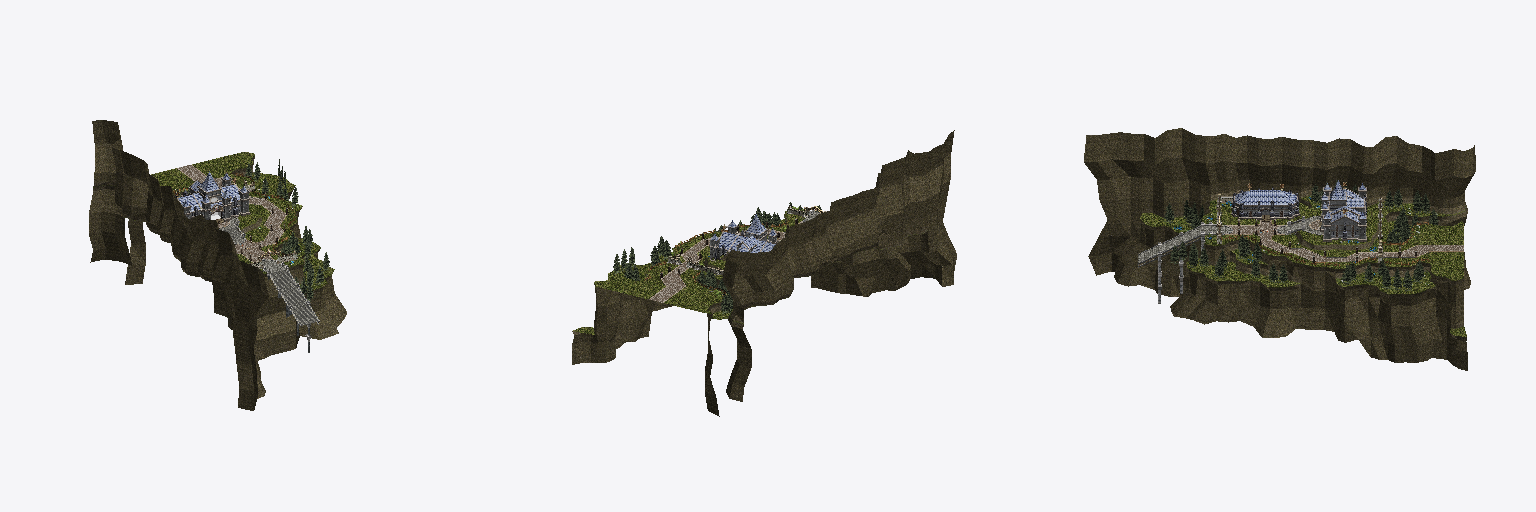
3 renders of one model, left to right at view 1: azimuth 30°, elevation 25°; view 2: azimuth 150°, elevation 25°; view 3: azimuth 270°, elevation 25°, orthographic.
Parts seen in each view (by area): view 1: Object.67, Object.85, Object.53, Object.108, Object.76, Object.117, Object.63, Object.119, Object.84, Object.86, Object.92, Object.121 (+6 smaller); view 2: Object.82, Object.69, Object.47, Object.77, Object.109, Object.53, Object.86, Object.91, Object.54, Object.87, Object.95, Object.100 (+4 smaller); view 3: Object.105, Object.95, Object.76, Object.87, Object.86, Object.85, Object.82, Object.47, Object.77, Object.91, Object.53, Object.106 (+27 smaller).
Part boxes in pixels (bbox=[...]): Object.67: bbox=[258, 311, 299, 357]; Object.85: bbox=[183, 213, 218, 267]; Object.53: bbox=[236, 360, 265, 410]; Object.108: bbox=[92, 120, 122, 170]; Object.76: bbox=[234, 261, 268, 311]; Object.117: bbox=[90, 231, 131, 265]; Object.63: bbox=[299, 300, 338, 339]; Object.119: bbox=[93, 147, 115, 210]; Object.84: bbox=[181, 237, 219, 277]; Object.86: bbox=[212, 254, 232, 312]; Object.92: bbox=[116, 175, 146, 216]; Object.121: bbox=[89, 197, 124, 232]; Object.82: bbox=[618, 299, 653, 345]; Object.69: bbox=[842, 259, 889, 296]; Object.47: bbox=[908, 173, 938, 230]; Object.77: bbox=[903, 144, 942, 200]; Object.109: bbox=[572, 325, 606, 364]; Object.53: bbox=[911, 236, 956, 286]; Object.86: bbox=[879, 174, 910, 245]; Object.91: bbox=[833, 189, 873, 240]; Object.54: bbox=[889, 251, 941, 290]; Object.87: bbox=[879, 152, 907, 212]; Object.95: bbox=[814, 197, 847, 257]; Object.100: bbox=[733, 252, 764, 295]; Object.105: bbox=[1405, 317, 1446, 362]; Object.95: bbox=[1282, 137, 1327, 186]; Object.76: bbox=[1084, 132, 1131, 178]; Object.87: bbox=[1167, 128, 1205, 182]; Object.86: bbox=[1164, 159, 1210, 214]; Object.85: bbox=[1206, 134, 1246, 184]; Object.82: bbox=[1358, 316, 1410, 362]; Object.47: bbox=[1118, 161, 1163, 215]; Object.77: bbox=[1120, 131, 1166, 181]; Object.91: bbox=[1247, 135, 1292, 182]; Object.53: bbox=[1088, 236, 1130, 285]; Object.106: bbox=[1400, 282, 1447, 325].
Bounding box in the file's own units: 88.13 × 69.78 × 146.
23 materials, 22 textured.